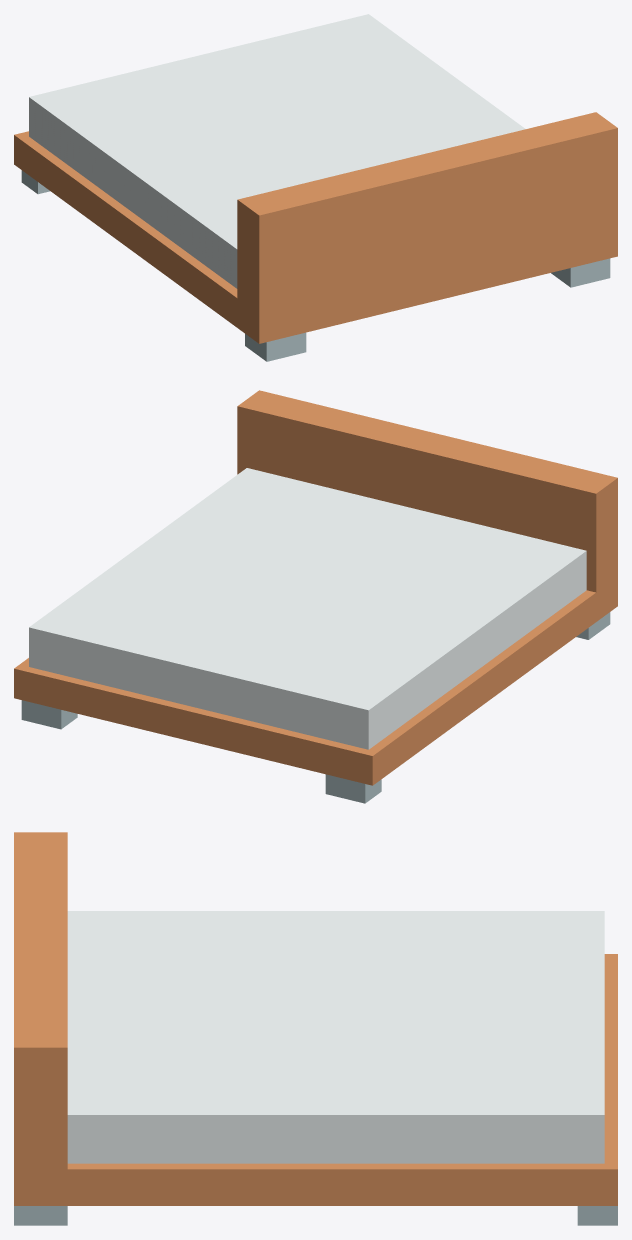
The model's file is BedDouble.glb.
3 renders of one model, top to bottom at view 1: azimuth 30°, elevation 25°; view 2: azimuth 150°, elevation 25°; view 3: azimuth 270°, elevation 25°, orthographic. The views are drawn at different scales.
Parts seen in each view (by area): view 1: BedDouble; view 2: BedDouble; view 3: BedDouble.
Boxes of the visible parts, box(x1,y1,x2,y2) form: BedDouble: box(14, 14, 617, 361); BedDouble: box(14, 390, 617, 803); BedDouble: box(14, 832, 617, 1225).
Size of the model in its own units: 2.44 by 0.9627 by 2.89.
